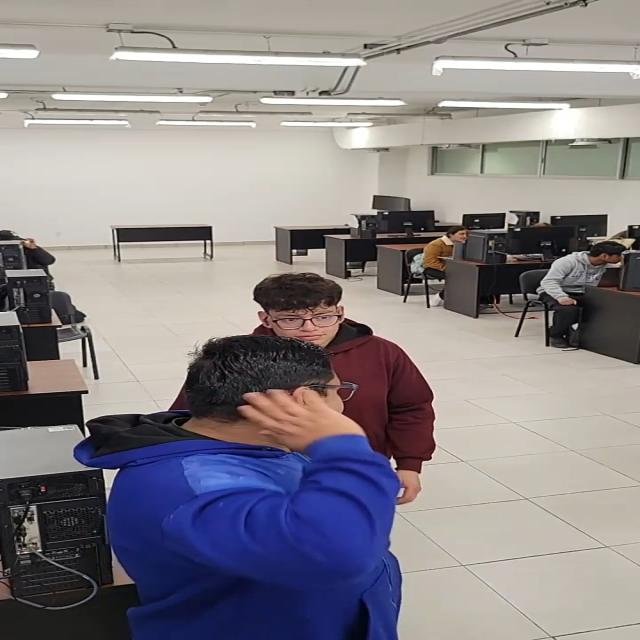Persona: (100, 335, 409, 640), (242, 270, 441, 506)
